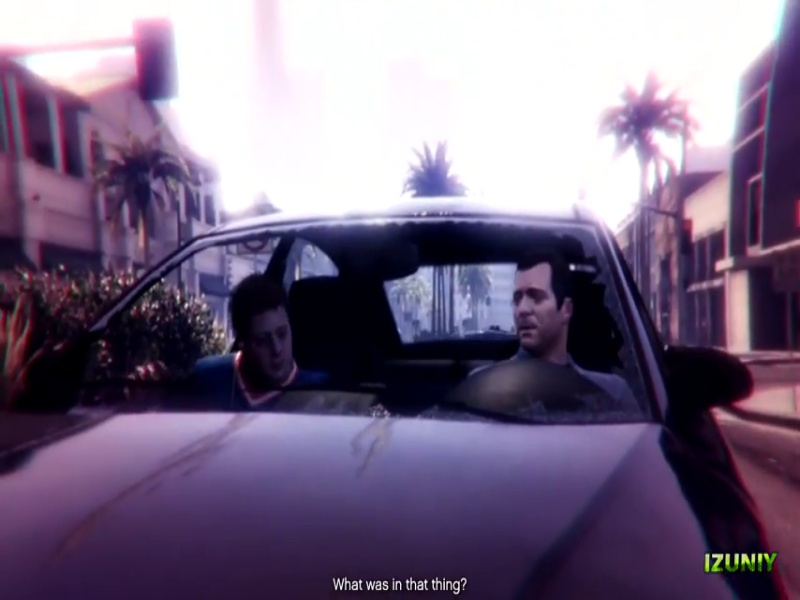human: (228, 258, 338, 405)
